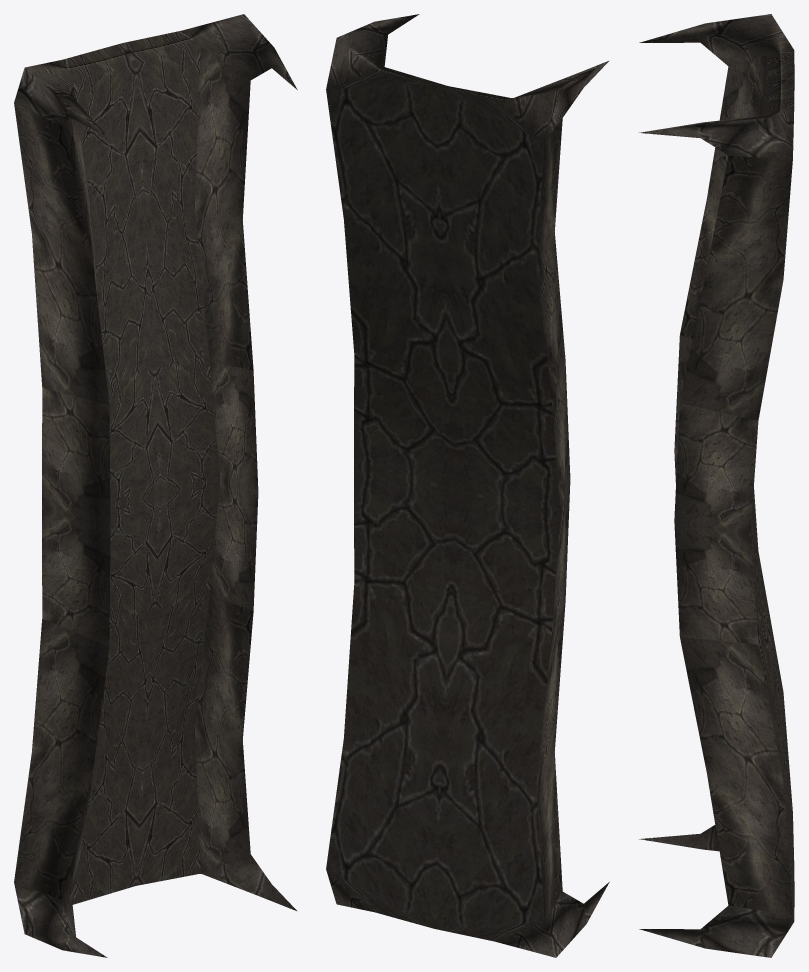
The model's file is bridge_12.obj.
3 views of the same model, side by side, from view 1: azimuth 30°, elevation 25°; view 2: azimuth 150°, elevation 25°; view 3: azimuth 270°, elevation 25° (orthographic). The views are drawn at different scales.
Parts seen in each view (by area): view 1: (null); view 2: (null); view 3: (null).
Part boxes in pixels (x1,y1,x2,y2): (null): [14, 14, 297, 957]; (null): [326, 14, 609, 957]; (null): [639, 14, 794, 957].
Size of the model in its own units: 2.04 by 7.69 by 1.3.
